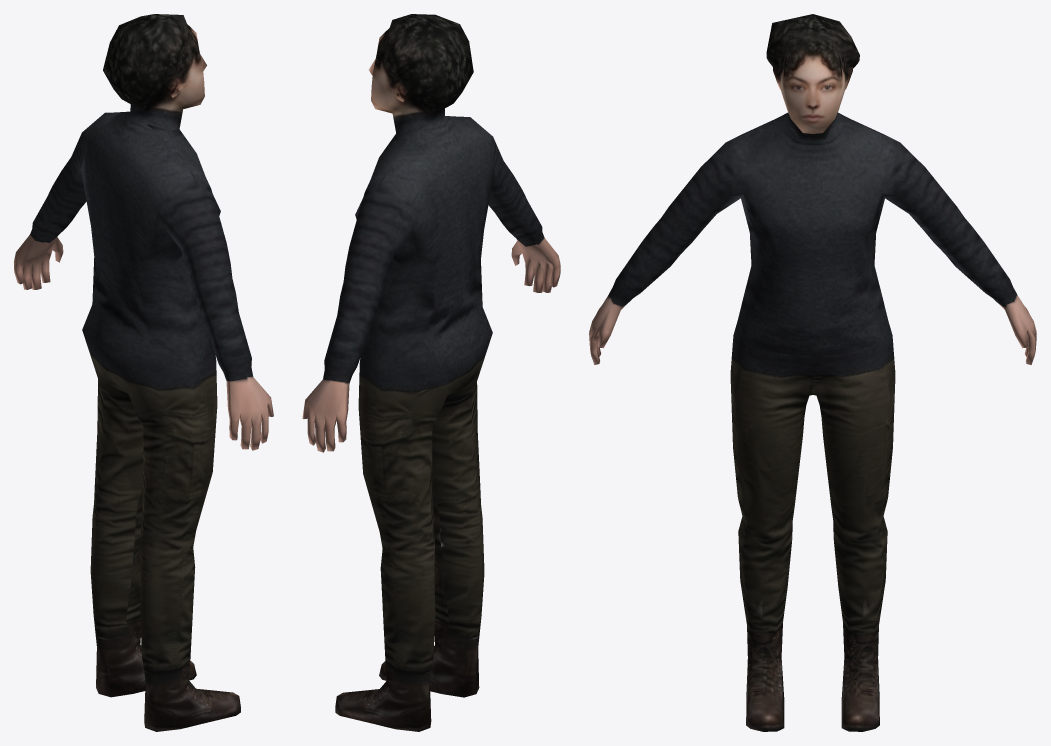
The model's file is Character_36_Female.fbx.
3 views of the same model, side by side, from view 1: azimuth 30°, elevation 25°; view 2: azimuth 150°, elevation 25°; view 3: azimuth 270°, elevation 25° (orthographic).
Parts seen in each view (by area): view 1: Character_36_Female; view 2: Character_36_Female; view 3: Character_36_Female.
Part boxes in pixels (x1,y1,x2,y2): Character_36_Female: (14,14,273,731); Character_36_Female: (302,14,560,731); Character_36_Female: (589,14,1036,731).
Size of the model in its own units: 0.2875 by 1.65 by 0.9786.
